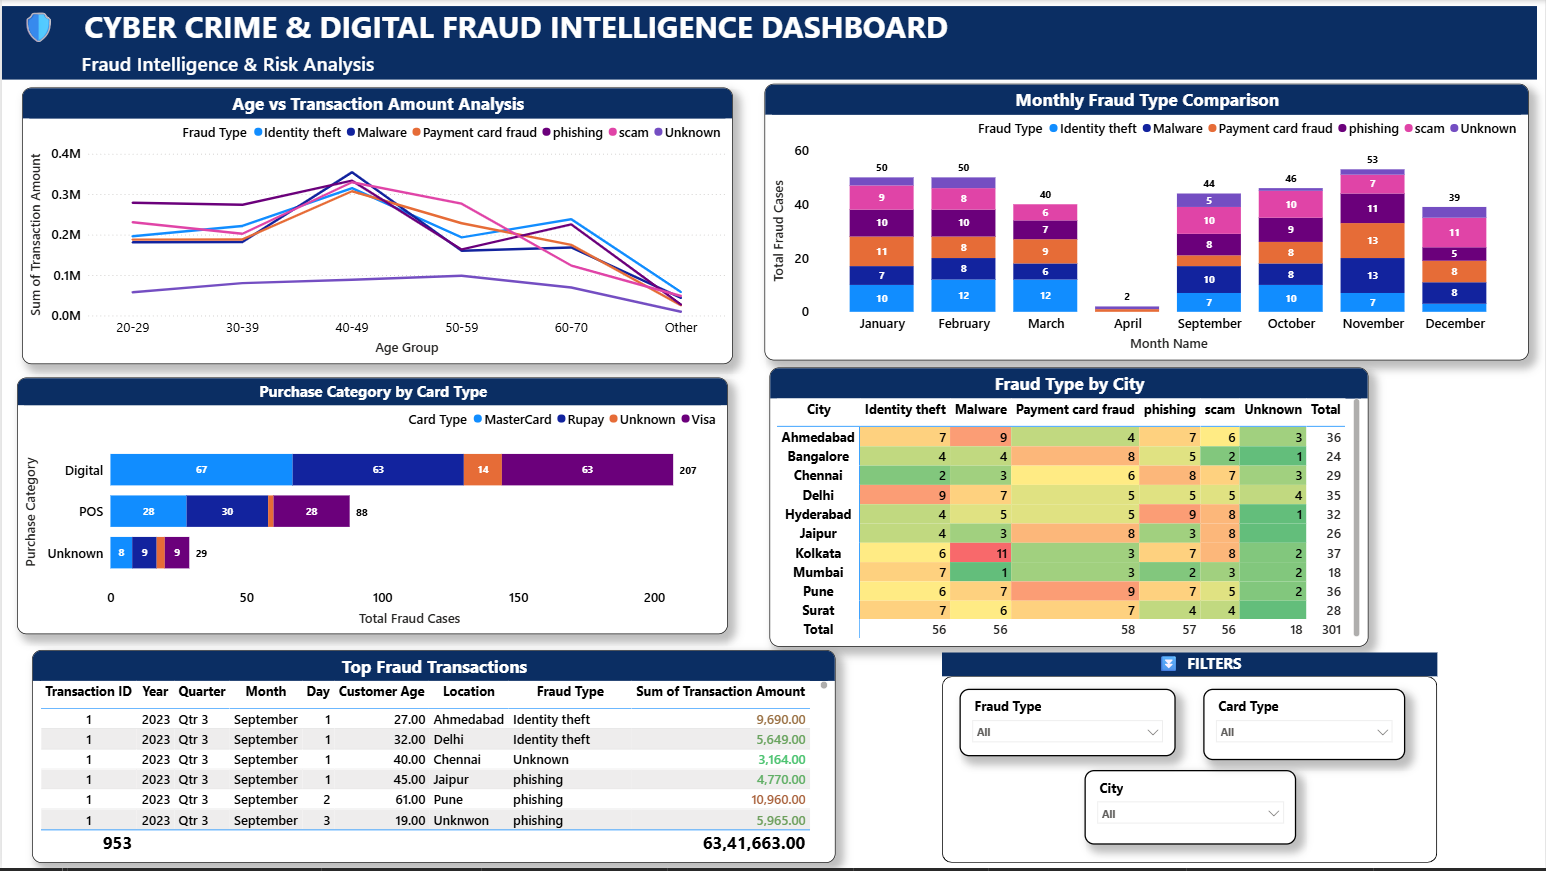

This screenshot's page, from the dashboard's own definition file:
{"tool":"powerbi","page":{"name":"Fraud Inte Dashboard","canvas":[1920,1080],"ordinal":6},"visuals":[{"type":"shape","title":"   🛡️    CYBER CRIME & DIGITAL FRAUD INTELLIGENCE DASHBOARD","box":[0,7.3,1909.1,90.9],"z":0},{"type":"columnChart","title":"Monthly Fraud Type Comparison","fields":{"Category":["DateTable.Month Name"],"Y":["Fact_Fraud.Total Fraud Cases"],"Series":["Fact_Fraud.Fraud Type"]},"box":[948.8,104.7,950.6,343.6],"z":1000},{"type":"lineChart","title":"Age vs Transaction Amount Analysis","fields":{"Y":["Sum(Fact_Fraud.Transaction Amount)"],"Series":["Fact_Fraud.Fraud Type"],"Category":["Fact_Fraud.Age Group"]},"box":[24.4,108.1,884.3,343.6],"z":2000},{"type":"barChart","title":"Purchase Category by Card Type","fields":{"Category":["Fact_Fraud.Purchase Category"],"Y":["Fact_Fraud.Total Fraud Cases"],"Series":["Fact_Fraud.Card Type"]},"box":[19.2,469.2,884.3,319.2],"z":3000},{"type":"pivotTable","title":"Fraud Type by City","fields":{"Rows":["Dim_City.City"],"Columns":["Fact_Fraud.Fraud Type"],"Values":["Fact_Fraud.Total Fraud Cases"]},"box":[954.1,457,744.8,347.1],"z":4000},{"type":"tableEx","title":"Top Fraud Transactions","fields":{"Values":["CountNonNull(Fact_Fraud.Transaction ID)","Fact_Fraud.Transaction Date Time.Variation.Date Hierarchy.Year","Fact_Fraud.Transaction Date Time.Variation.Date Hierarchy.Quarter","Fact_Fraud.Transaction Date Time.Variation.Date Hierarchy.Month","Fact_Fraud.Transaction Date Time.Variation.Date Hierarchy.Day","Fact_Fraud.Customer Age","Fact_Fraud.Location","Fact_Fraud.Fraud Type","Sum(Fact_Fraud.Transaction Amount)"]},"box":[36.6,807.6,999.4,265.1],"z":5000},{"type":"shape","title":"     ⏬  FILTERS","box":[1168.6,811,615.7,261.6],"z":6000},{"type":"slicer","fields":{"Values":["Dim_City.City"]},"box":[1346.5,957.6,263.4,92.4],"z":7000},{"type":"slicer","fields":{"Values":["Fact_Fraud.Fraud Type"]},"box":[1191.3,856.4,268.6,83.7],"z":8000},{"type":"slicer","fields":{"Values":["Fact_Fraud.Card Type"]},"box":[1493,856.4,251.2,89],"z":9000}]}

Visuals, with their boxes in screenshot pixels (x1, y1, x2, y2), scaled from the page's 1920x1080 canvas onto the 1546x871 screenshot:
"   🛡️    CYBER CRIME & DIGITAL FRAUD INTELLIGENCE DASHBOARD" shape: 0, 6, 1537, 79
"Monthly Fraud Type Comparison" columnChart: 764, 84, 1529, 362
"Age vs Transaction Amount Analysis" lineChart: 20, 87, 732, 364
"Purchase Category by Card Type" barChart: 15, 378, 728, 636
"Fraud Type by City" pivotTable: 768, 369, 1368, 648
"Top Fraud Transactions" tableEx: 29, 651, 834, 865
"     ⏬  FILTERS" shape: 941, 654, 1437, 865
slicer - Dim_City.City: 1084, 772, 1296, 847
slicer - Fact_Fraud.Fraud Type: 959, 691, 1176, 758
slicer - Fact_Fraud.Card Type: 1202, 691, 1404, 762
